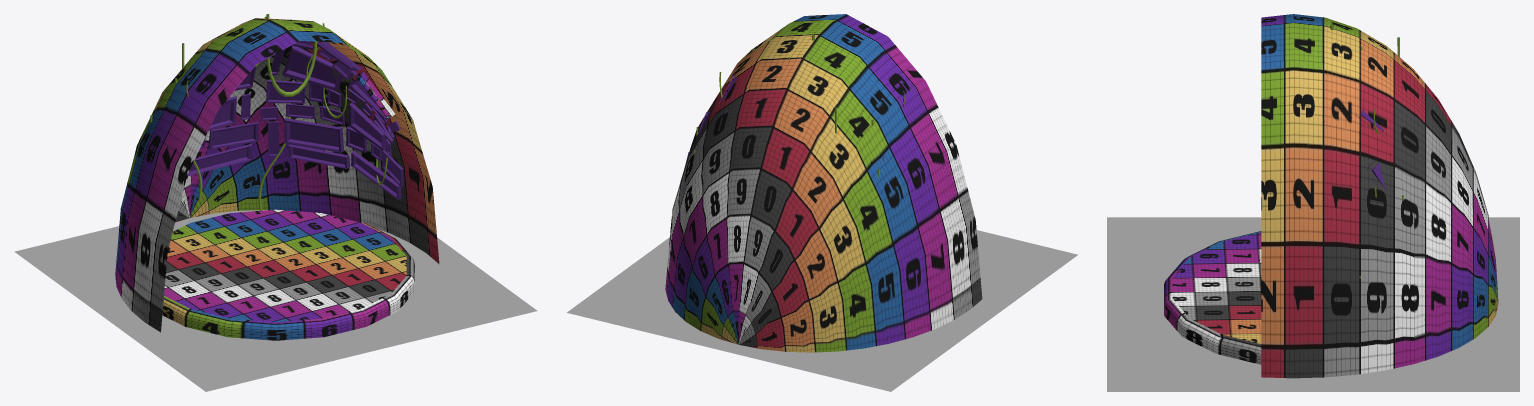
Rendered from ArenaTest.fbx.
3 views of the same model, side by side, from view 1: azimuth 30°, elevation 25°; view 2: azimuth 150°, elevation 25°; view 3: azimuth 270°, elevation 25° (orthographic). The views are drawn at different scales.
Visible parts, largest first — view 1: Grotte, Floor, Plane, TV8, Cables1; view 2: Grotte, Plane; view 3: Grotte, Plane, Floor.
Boxes of the visible parts, x1=… form: Grotte: x1=115, y1=18, x2=439, y2=332; Floor: x1=162, y1=209, x2=414, y2=340; Plane: x1=14, y1=210, x2=537, y2=391; TV8: x1=157, y1=41, x2=403, y2=199; Cables1: x1=150, y1=14, x2=387, y2=210; Grotte: x1=665, y1=14, x2=982, y2=352; Plane: x1=567, y1=230, x2=1077, y2=391; Grotte: x1=1261, y1=14, x2=1498, y2=378; Plane: x1=1107, y1=217, x2=1519, y2=391; Floor: x1=1164, y1=231, x2=1261, y2=364.
Bounding box in the file's own units: 392 × 295 × 392.
2 materials, 1 textured.
